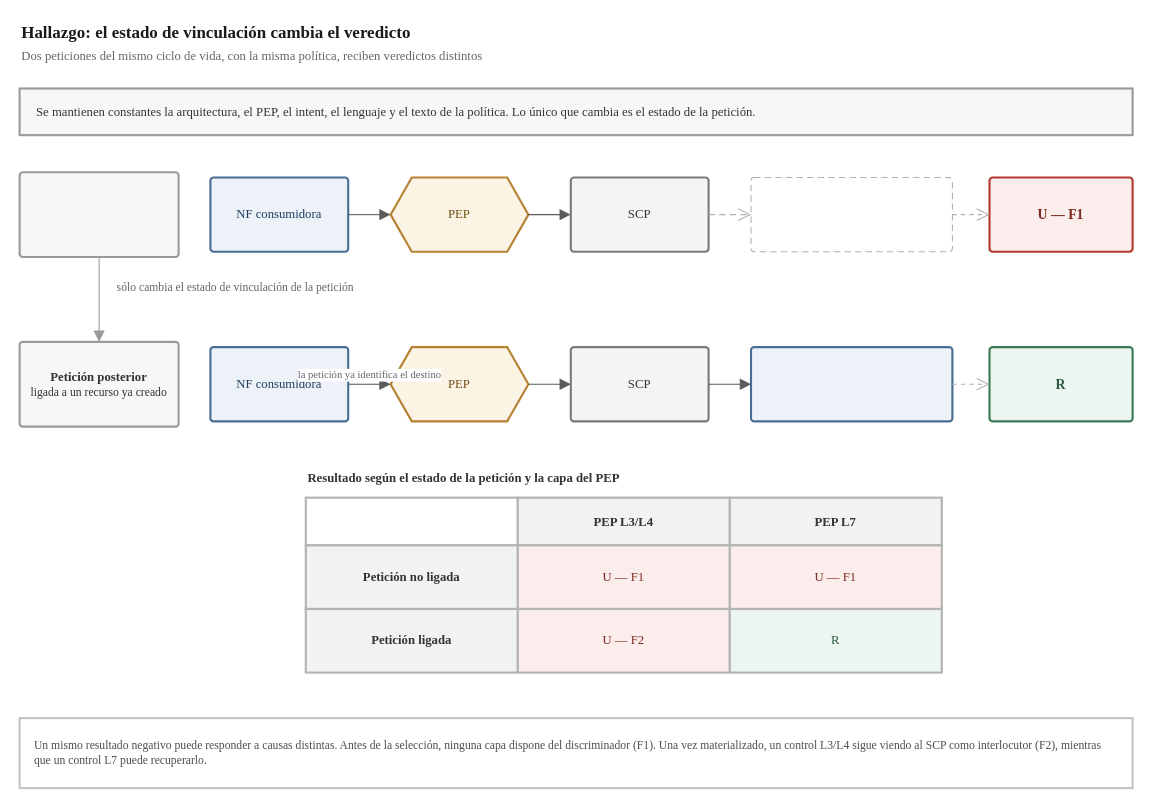
Image size: 1151x807. Some labels were removed from this diagram. Here are the shapes that lost their labels. From the top down, the centre of each, then its label:
At [98,214]: "Petición inicial no ligada a un recurso".
At [851,214]: "instancia productora aún no seleccionada".
At [851,384]: "UDM_a instancia ya vinculada".
